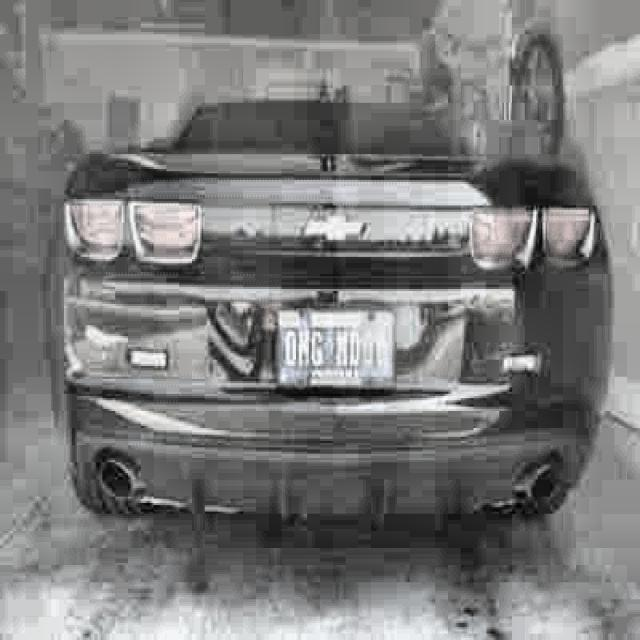license_plate: (273, 310, 394, 391)
